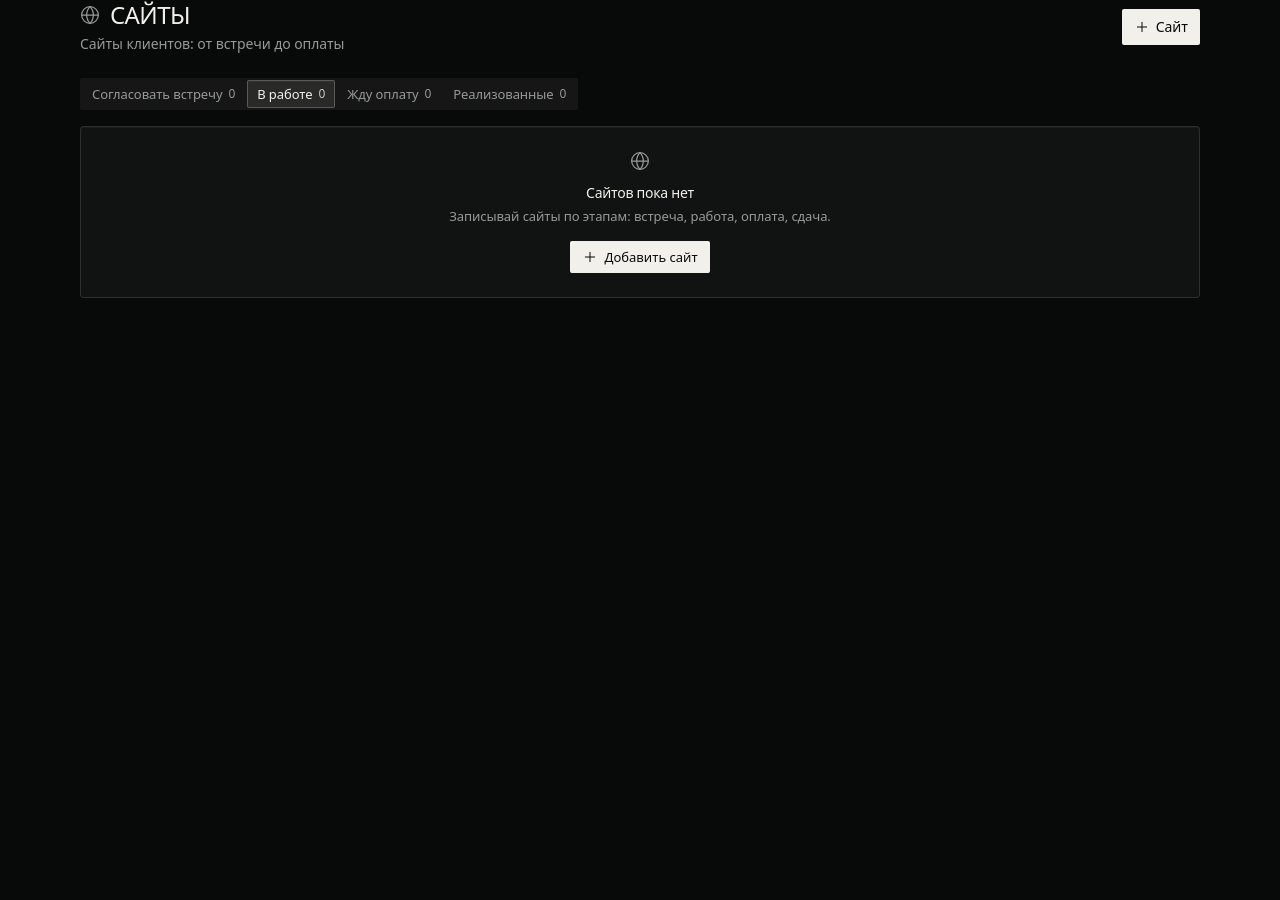
Test case: SitesPage › cannot be saved without a name
Click the button "Сайт": {"x": 1161, "y": 27} [1122,9,1200,45]
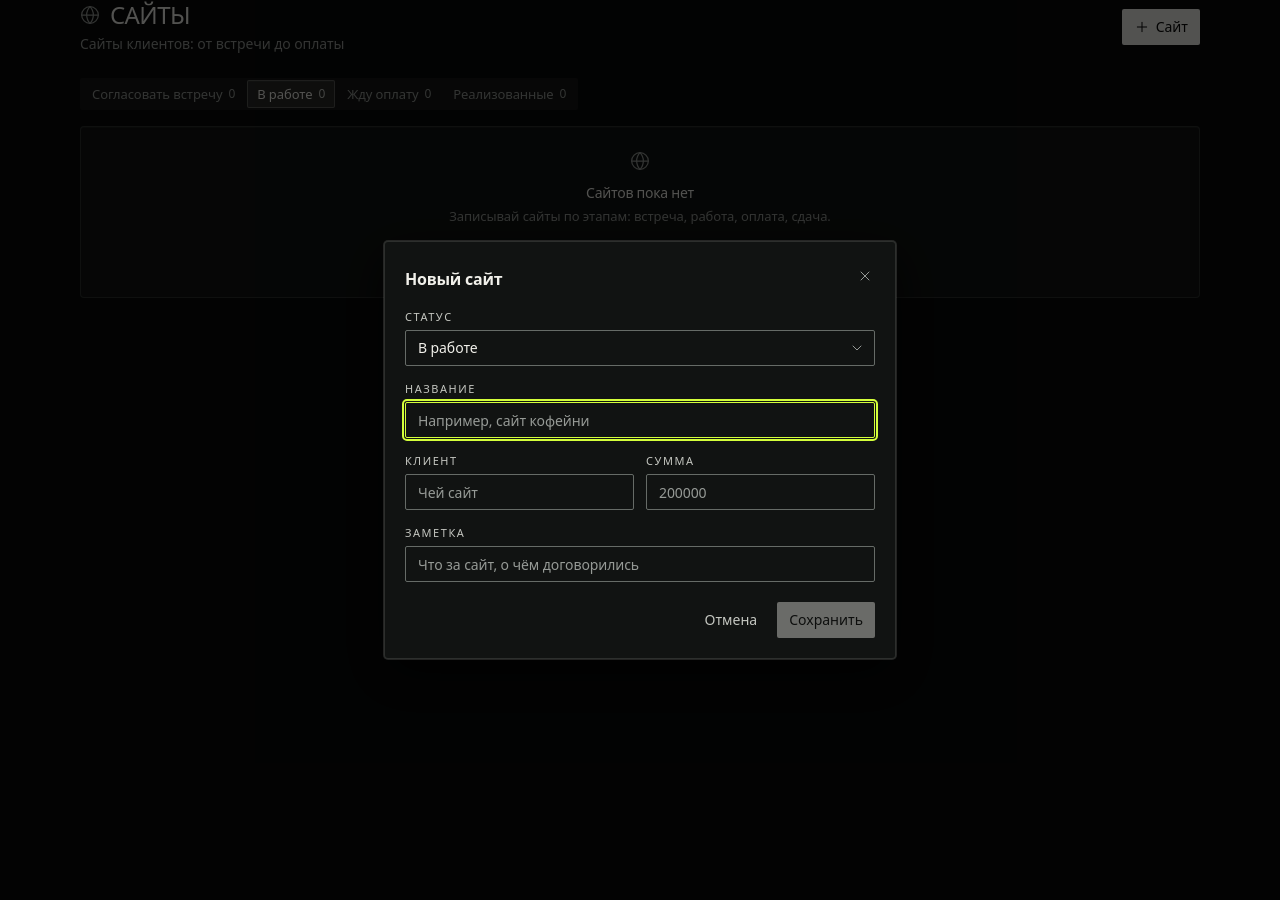
expect the button "Сохранить" is disabled: met, box [777,602,875,638]
In the field labelled "Название": {"x": 640, "y": 420} [405,402,875,438], type "Сайт кофейни"
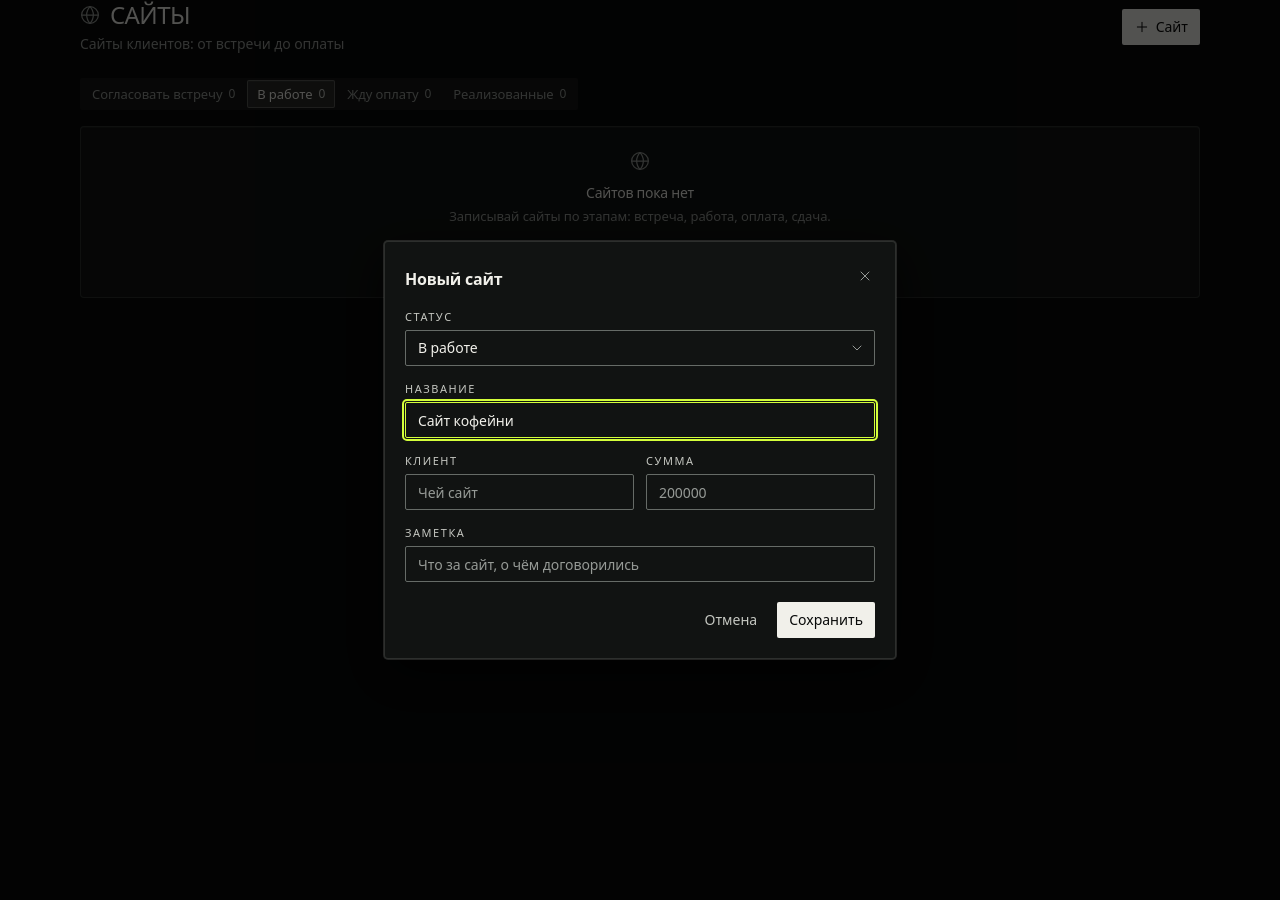
expect the button "Сохранить" is enabled: met, box [777,602,875,638]
